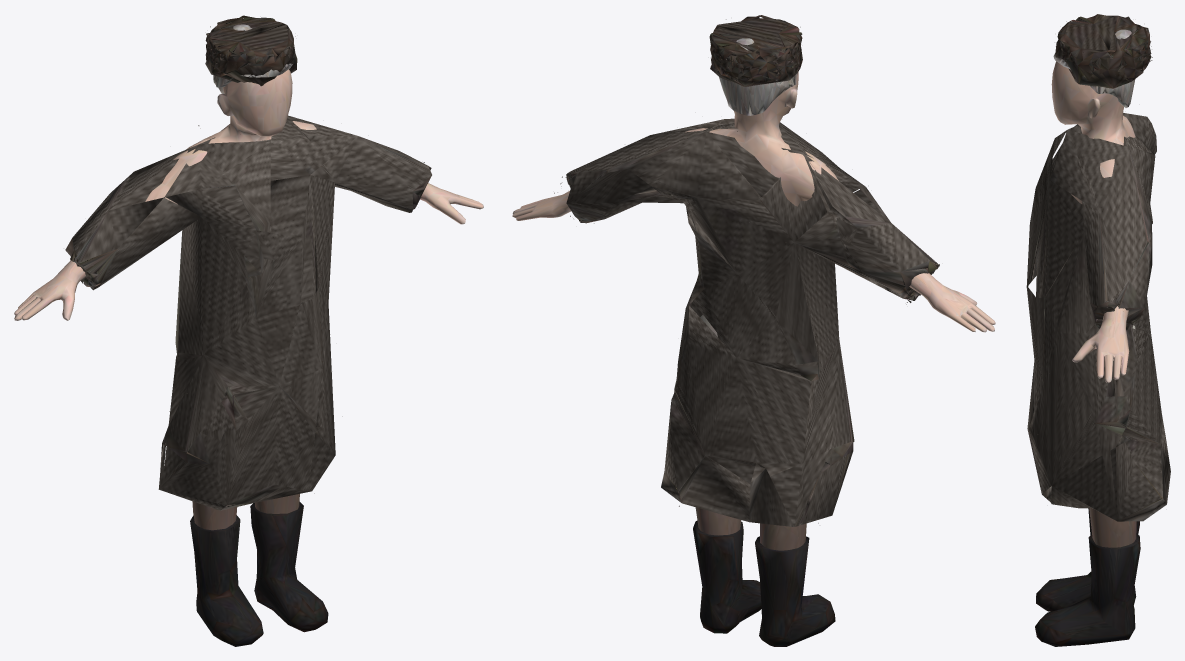
Rendered from npc_x_grandma_w2.glb.
The picture shows the model from 3 angles, left to right: view 1: azimuth 30°, elevation 25°; view 2: azimuth 150°, elevation 25°; view 3: azimuth 270°, elevation 25°; orthographic projection. The views are drawn at different scales.
Parts seen in each view (by area): view 1: Human; view 2: Human; view 3: Human.
Boxes of the visible parts, x1=… form: Human: x1=14, y1=15, x2=483, y2=646; Human: x1=512, y1=15, x2=995, y2=646; Human: x1=1026, y1=14, x2=1170, y2=646.
Bounding box in the file's own units: 1.39 × 1.65 × 0.3704.
1 material, 1 textured.
